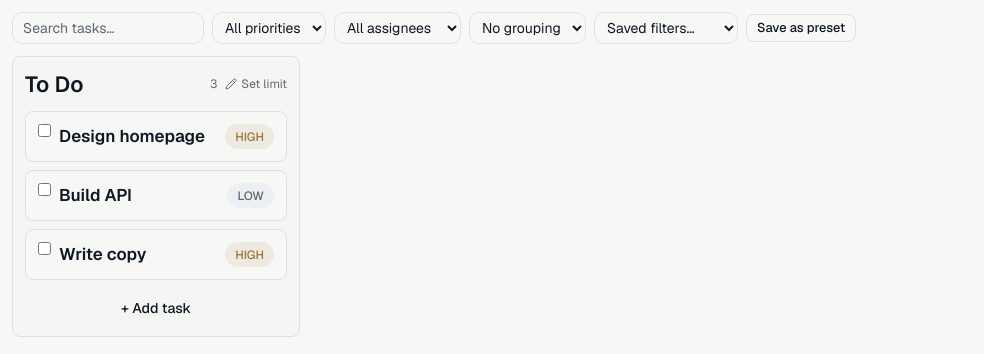
Scenario: KanbanBoard saved filter presets › applies a saved preset
The image size is (984, 354).
Select "Low priority only" in the dropdown named "Saved filters". click: (666, 28)
box: [594, 12, 738, 44]
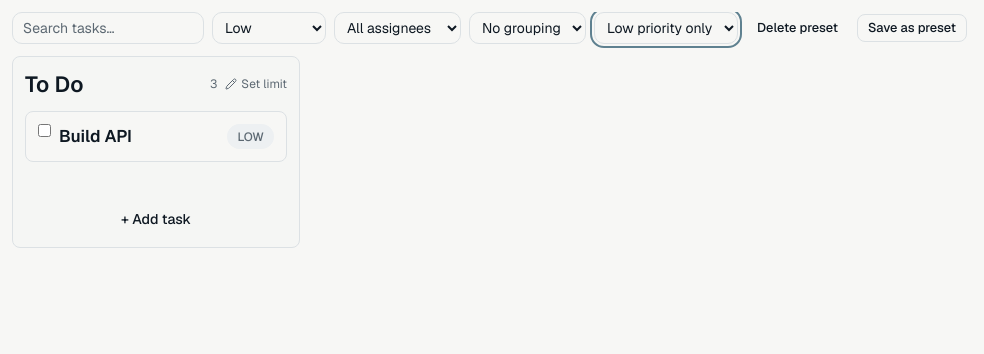
Expected: the heading "Build API" is shown, [59, 124, 132, 149]
Now the heading "Design homepage" is gone
